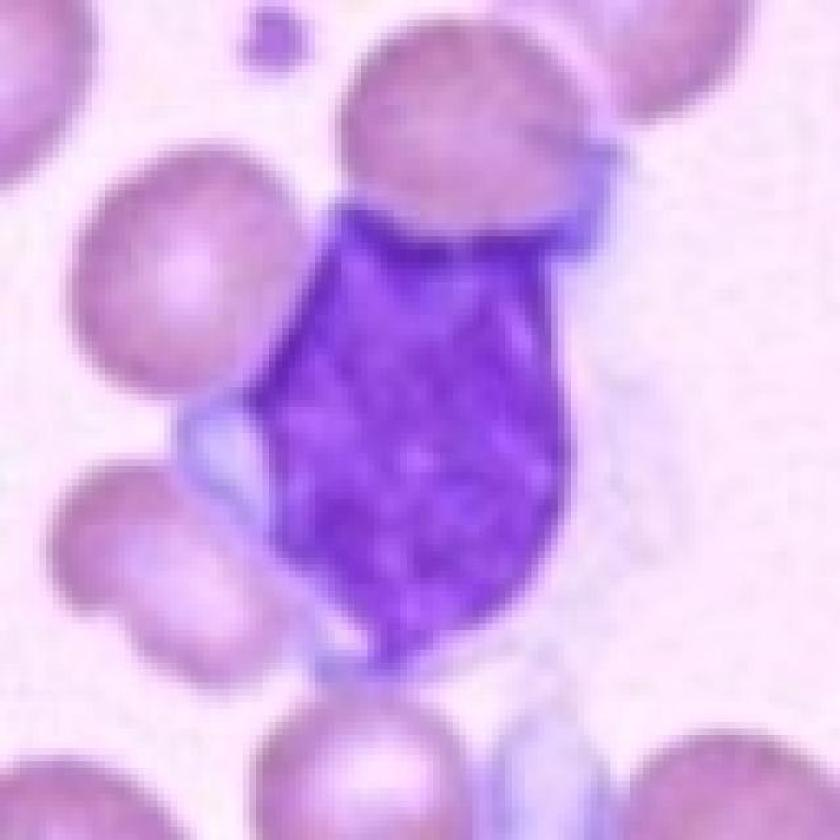lymphocyte: (160, 104, 683, 718)
